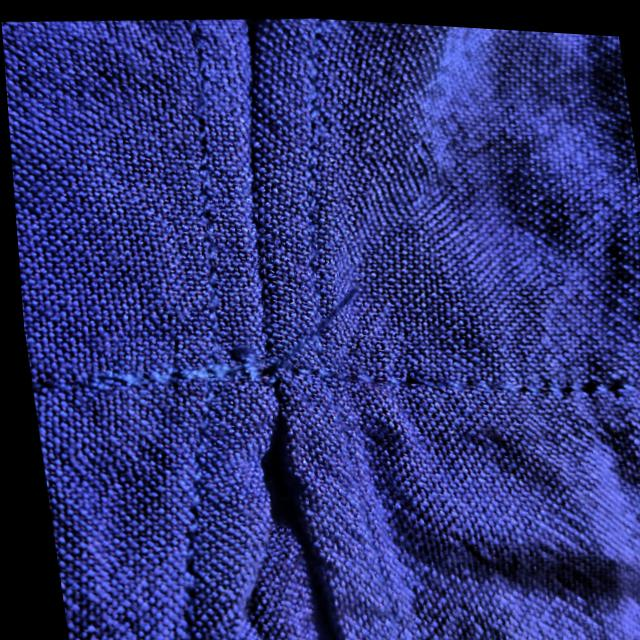Stitch: (95, 253, 420, 418)
